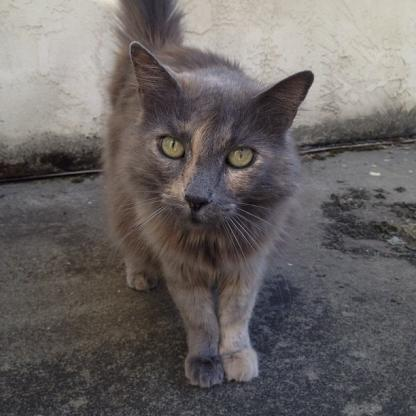Target: (89, 0, 324, 394)
